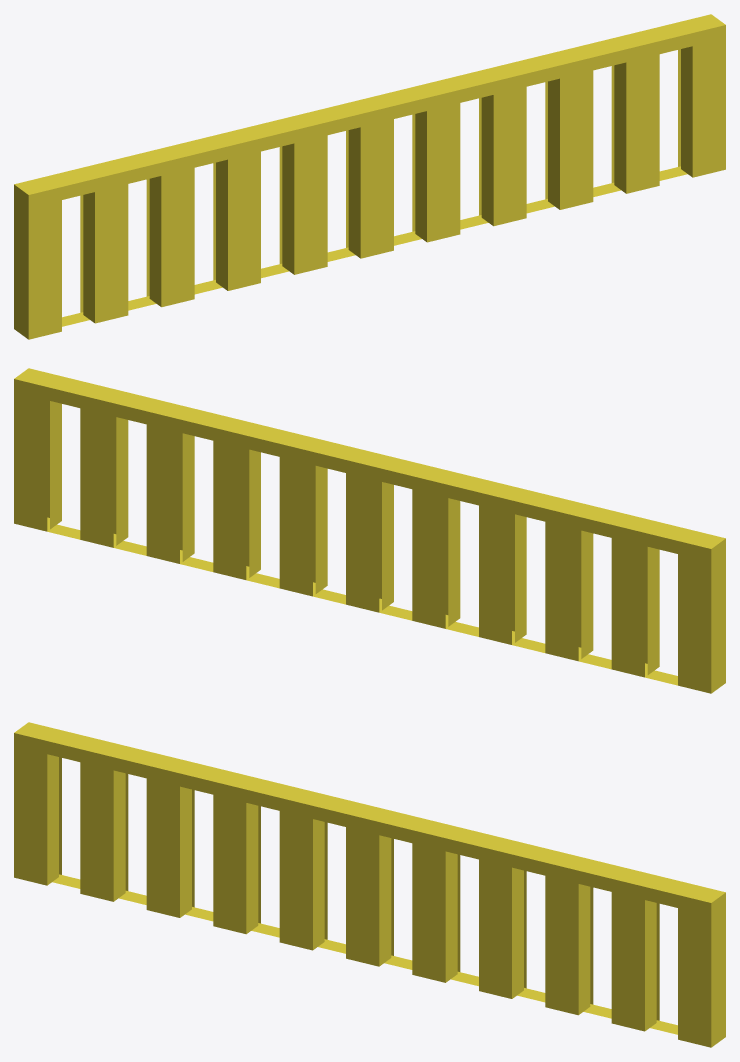
Rendered from VarandaGrade.fbx.
3 renders of one model, top to bottom at view 1: azimuth 30°, elevation 25°; view 2: azimuth 150°, elevation 25°; view 3: azimuth 330°, elevation 25°, orthographic.
Parts seen in each view (by area): view 1: VarandaGrade; view 2: VarandaGrade; view 3: VarandaGrade.
Part boxes in pixels (x1,y1,x2,y2): VarandaGrade: [14, 14, 725, 339]; VarandaGrade: [14, 368, 725, 693]; VarandaGrade: [14, 722, 725, 1047].
Bounding box in the file's own units: 1009 × 200 × 36.76.
